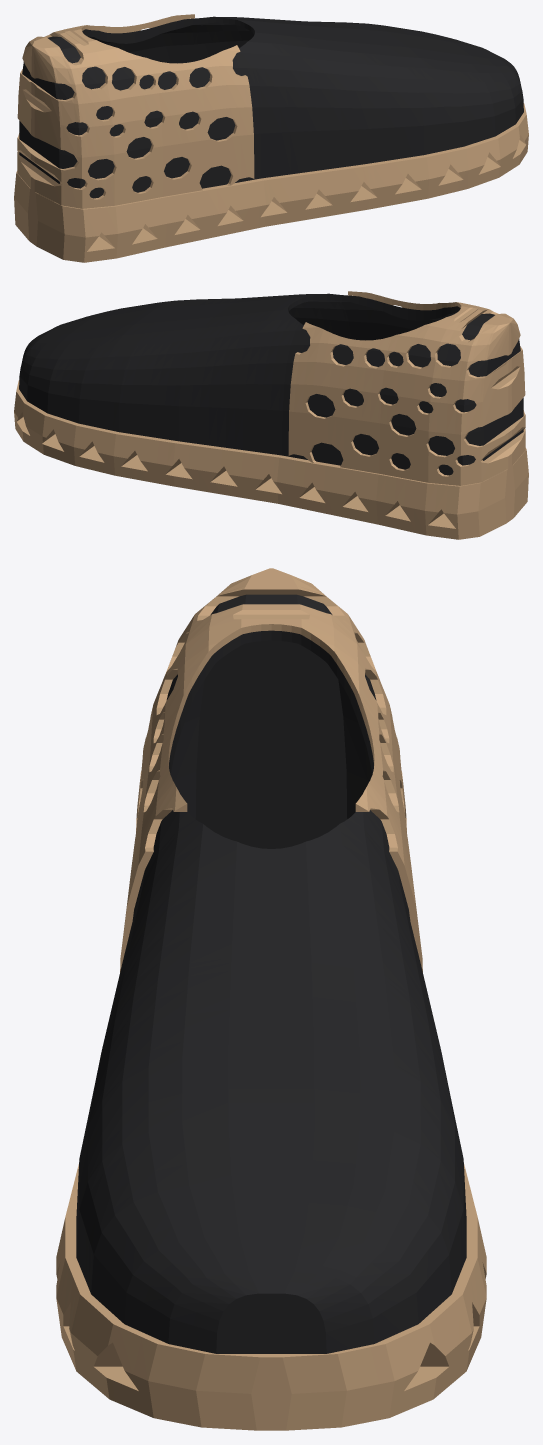
The model's file is bone-truss.glb.
The picture shows the model from 3 angles, top to bottom: view 1: azimuth 30°, elevation 25°; view 2: azimuth 150°, elevation 25°; view 3: azimuth 270°, elevation 25°; orthographic projection. The views are drawn at different scales.
Visible parts, largest first — view 1: bone-truss_sole, bone-truss_upper; view 2: bone-truss_sole, bone-truss_upper; view 3: bone-truss_upper, bone-truss_sole.
Part boxes in pixels (x1=…): bone-truss_sole: x1=14, y1=14, x2=528, y2=262; bone-truss_upper: x1=19, y1=16, x2=523, y2=198; bone-truss_sole: x1=14, y1=291, x2=528, y2=539; bone-truss_upper: x1=19, y1=293, x2=523, y2=475; bone-truss_upper: x1=76, y1=594, x2=466, y2=1353; bone-truss_sole: x1=56, y1=568, x2=486, y2=1430.
Bounding box in the file's own units: 0.3 × 0.1187 × 0.117.
